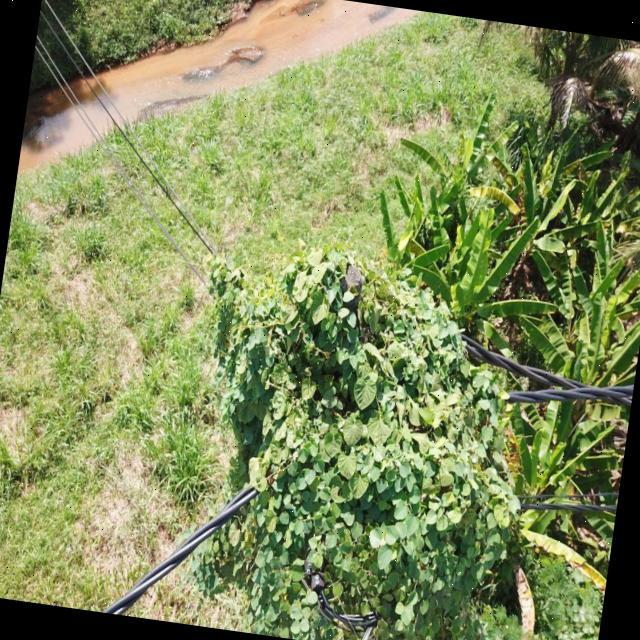critical vegetation: (157, 202, 574, 588)
